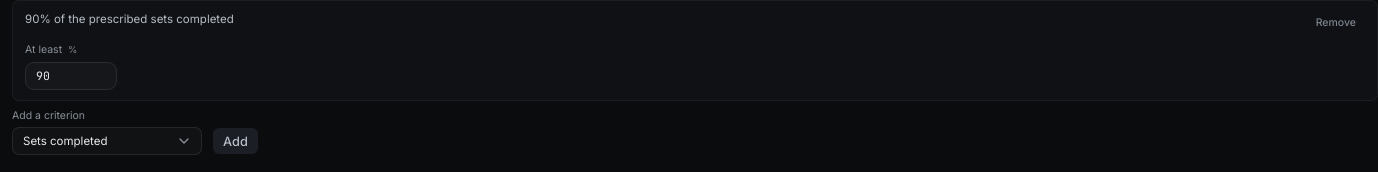
Scenario: CriteriaEditor › offers a lifting session only the criteria a gym can be judged by
Replace the text in the field labelled "At least %" with "100" at (71, 76), box [25,62,117,90]
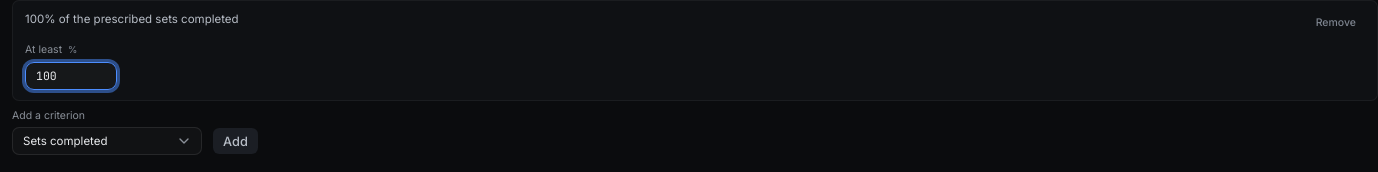
Expected: the text "100% of the prescribed sets completed" is shown, [25,12,239,26]
